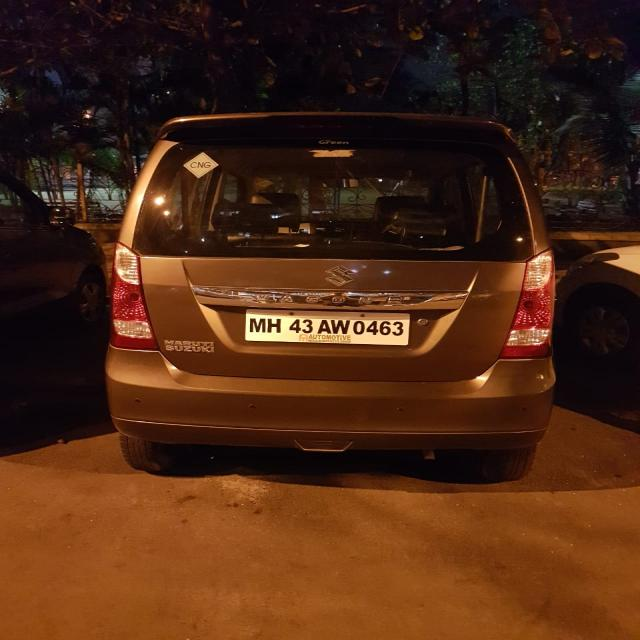Number-Plate: (245, 312, 409, 342)
